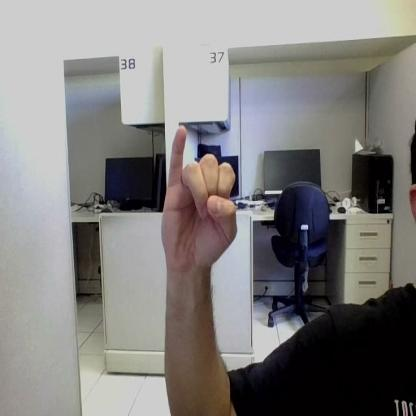I: (162, 125, 238, 265)
